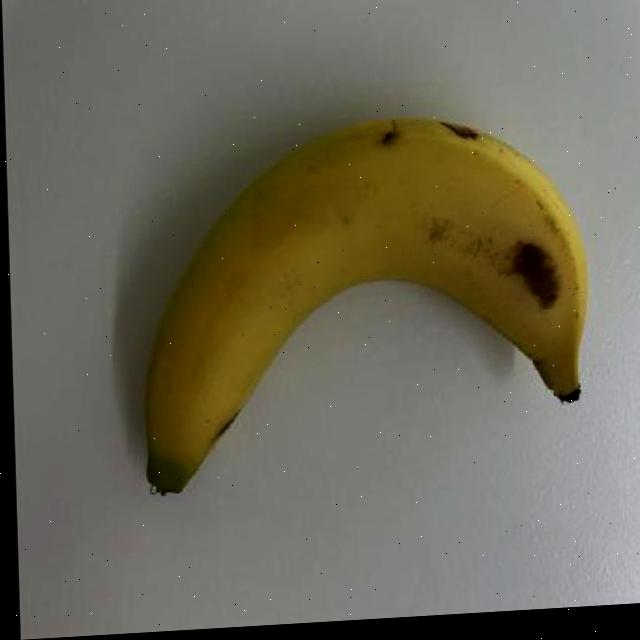banana: (119, 97, 602, 516)
